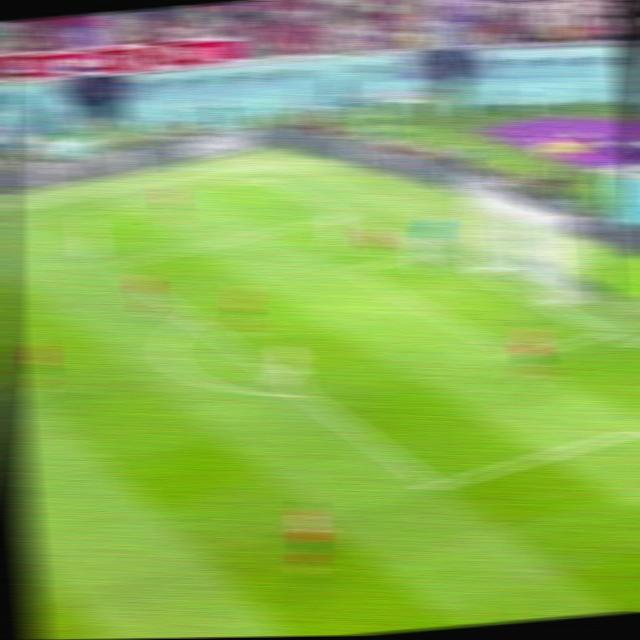bigarea_bottom_inner: (418, 469, 453, 501)
bigarea_top_inner: (96, 254, 125, 276)
bigarea_top_outter: (332, 207, 359, 223)
bottom_arc_area_intersection: (288, 383, 316, 404)
corner: (244, 169, 273, 183)
smallarea_bottom_inner: (501, 342, 531, 366)
smallarea_bottom_outter: (590, 320, 621, 343)
smallarea_top_inner: (336, 258, 365, 280)
smallarea_top_outter: (416, 244, 442, 261)
top_arc_area_intersection: (175, 306, 204, 327)
